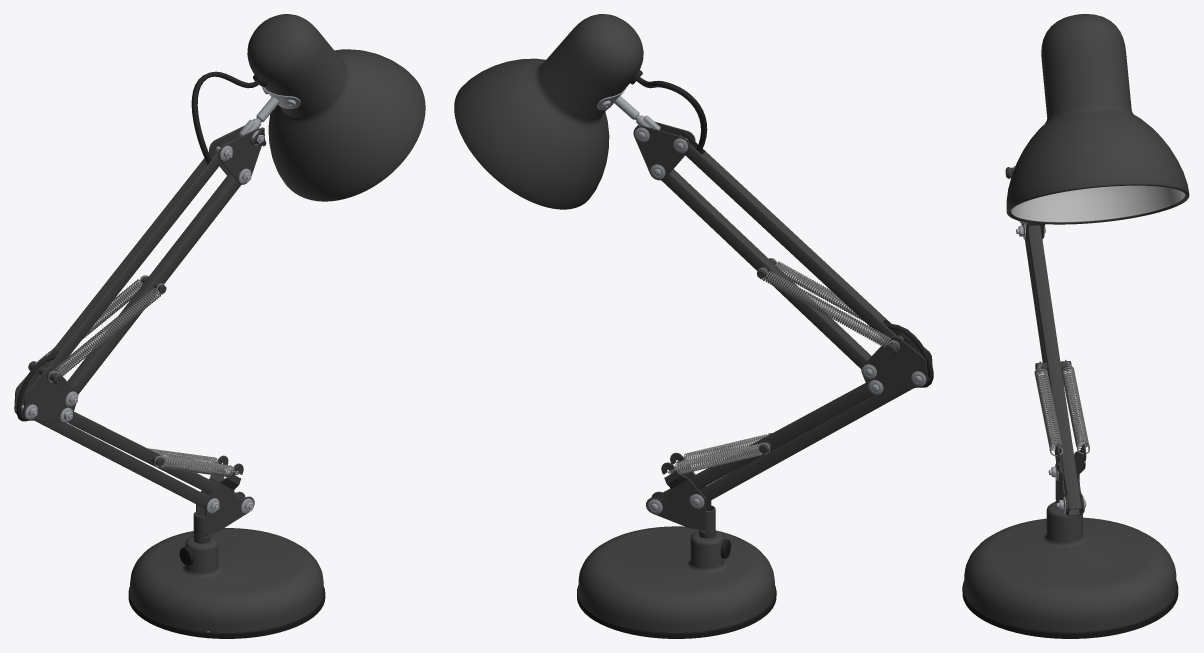
The model's file is desk_lamp.glb.
3 views of the same model, side by side, from view 1: azimuth 30°, elevation 25°; view 2: azimuth 150°, elevation 25°; view 3: azimuth 270°, elevation 25° (orthographic). The views are drawn at different scales.
Parts seen in each view (by area): view 1: Object_2, Object_3; view 2: Object_2, Object_3; view 3: Object_2.
Part boxes in pixels (x1=…): Object_2: x1=14, y1=14, x2=425, y2=638; Object_3: x1=16, y1=71, x2=260, y2=421; Object_2: x1=454, y1=14, x2=932, y2=638; Object_3: x1=637, y1=77, x2=933, y2=387; Object_2: x1=962, y1=14, x2=1189, y2=638.
Size of the model in its own units: 3.06 by 3.82 by 1.28.
2 materials, 1 textured.
